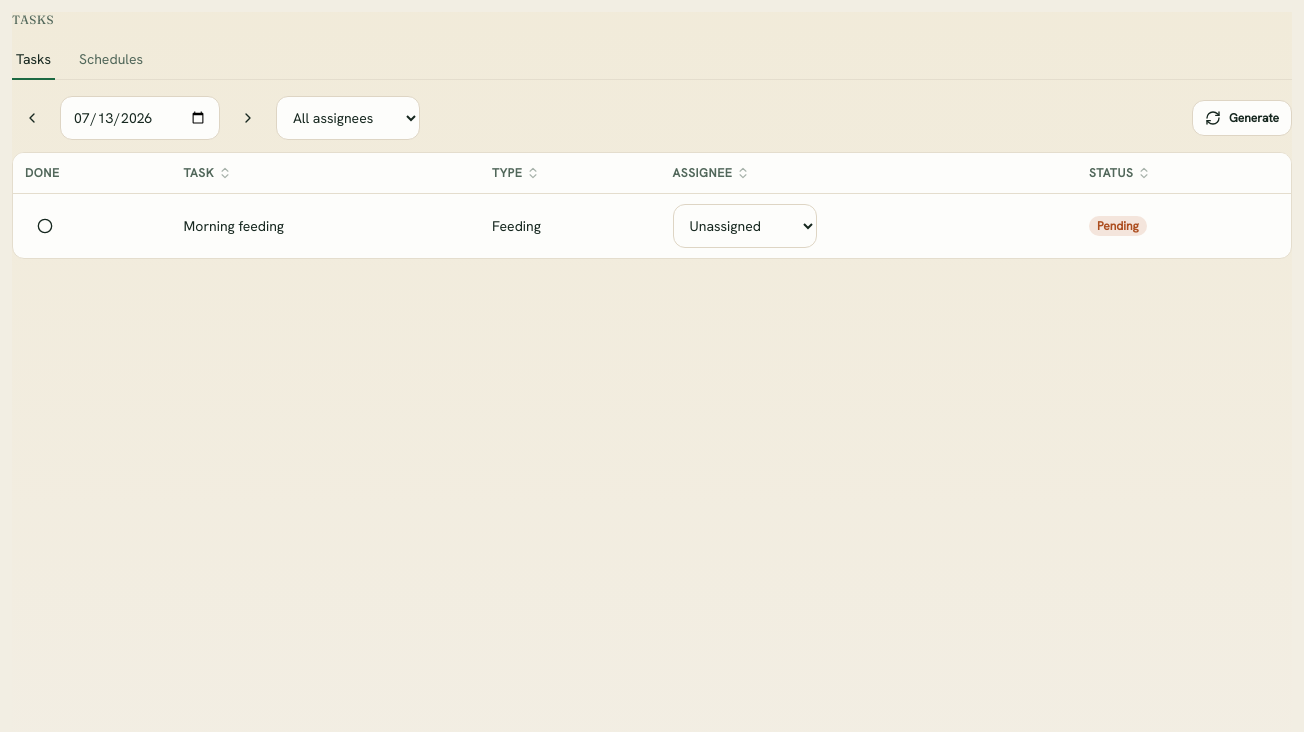
TasksPanel (11.6a rewrite) › generates tasks and toasts the result counts
Expected: the text "Morning feeding" is shown, [184,216,284,234]
Click the button "Generate": (1242, 118) [1192,100,1292,136]
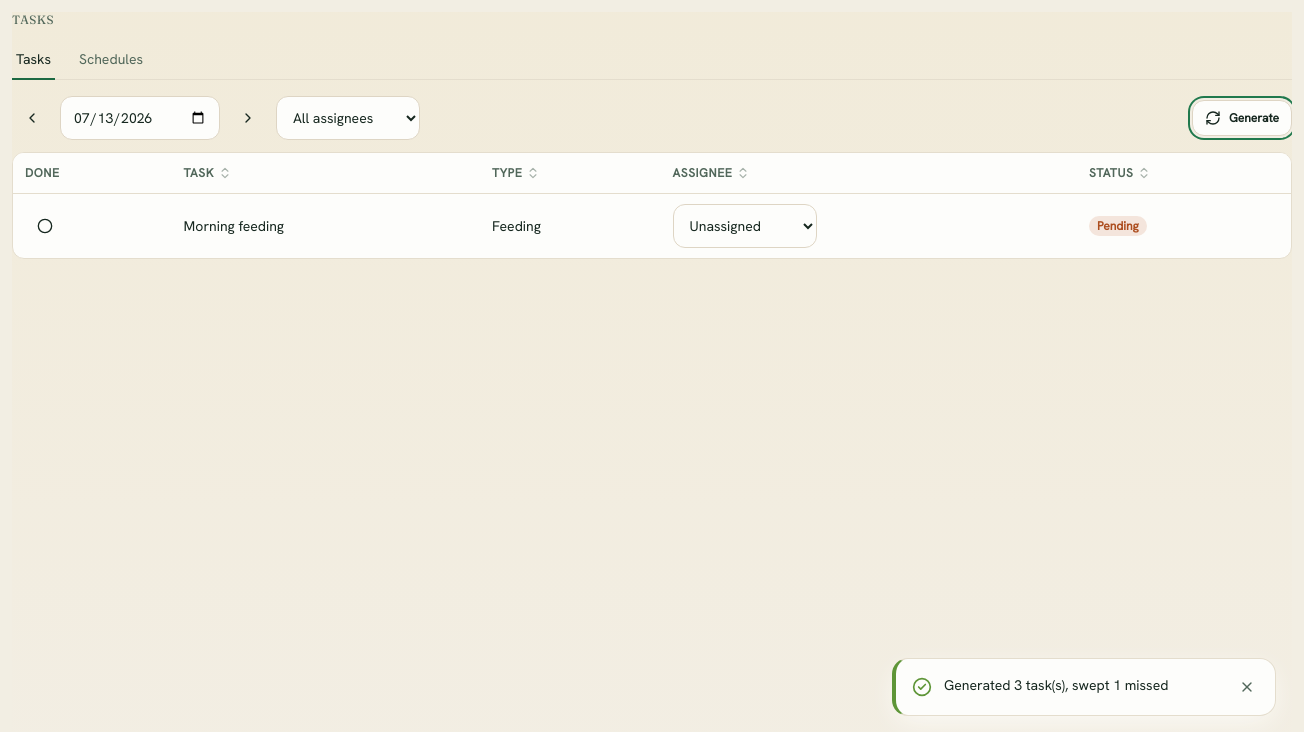
Expected: the text "Generated 3 task(s), swept 1 missed" is shown, [944,676,1168,694]
